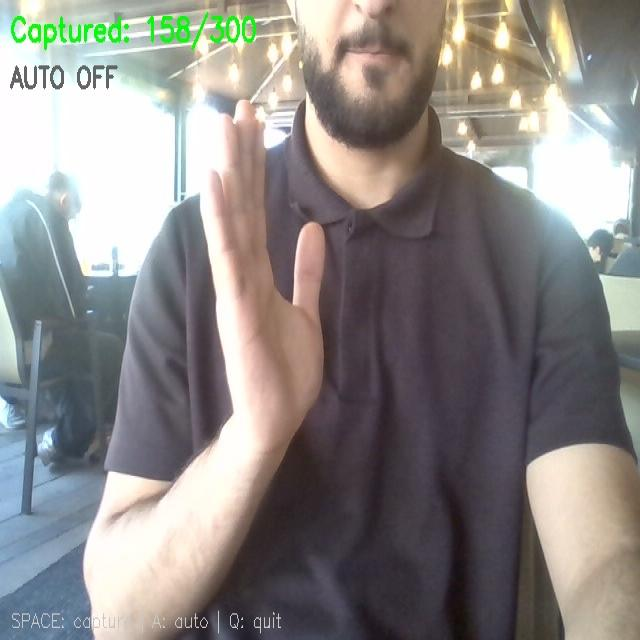Hand: (201, 102, 324, 451)
